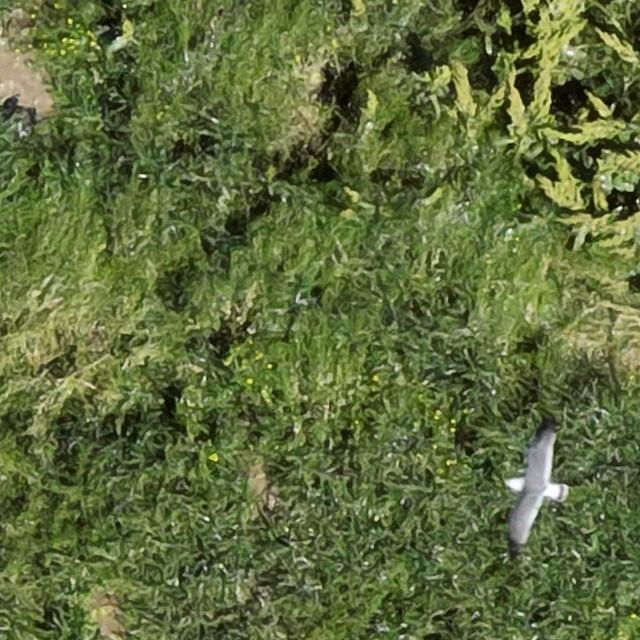F: (508, 432, 569, 545)
